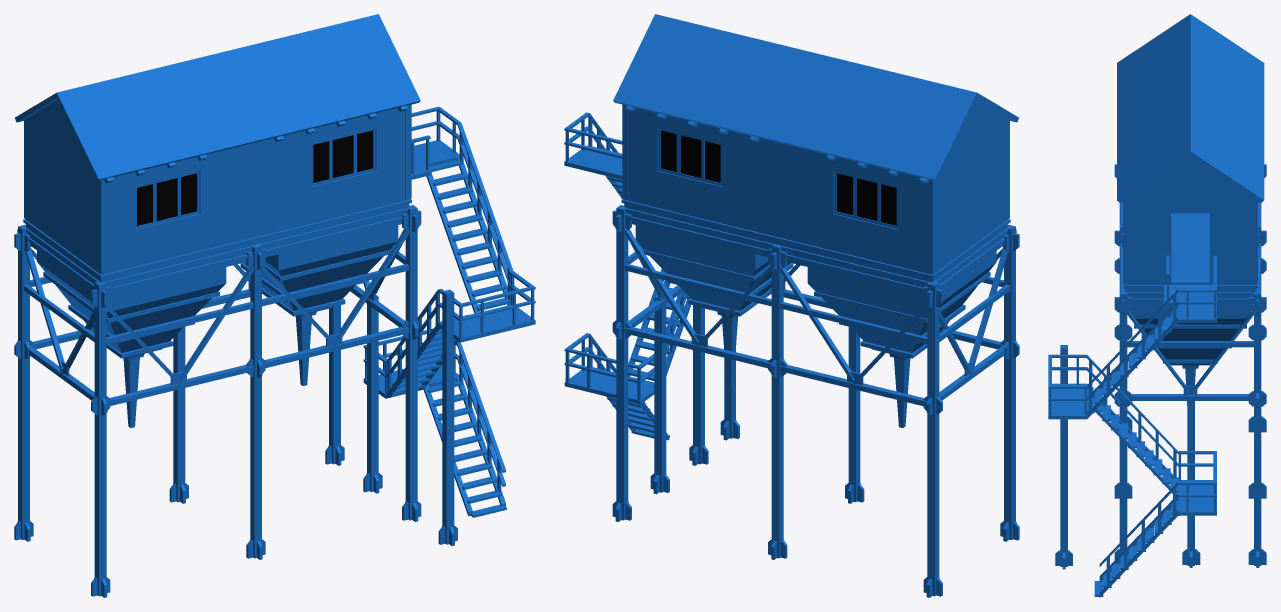
File: SM_grain_filling_station.fbx
3 views of the same model, side by side, from view 1: azimuth 30°, elevation 25°; view 2: azimuth 150°, elevation 25°; view 3: azimuth 270°, elevation 25° (orthographic). The views are drawn at different scales.
Parts seen in each view (by area): view 1: Cube_11; view 2: Cube_11; view 3: Cube_11.
Part boxes in pixels (x1,y1,x2,y2): Cube_11: (14,14,535,597); Cube_11: (564,14,1019,597); Cube_11: (1048,14,1266,597).
Bounding box in the file's own units: 1061 × 1200 × 571.
